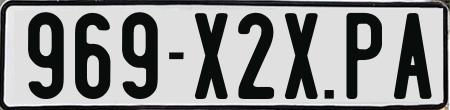2: (235, 11, 273, 99)
6: (72, 11, 107, 97)
9: (122, 9, 164, 96), (27, 9, 66, 98)
A: (393, 10, 432, 102)
P: (344, 11, 382, 99)
X: (195, 12, 229, 101), (282, 12, 316, 101)
